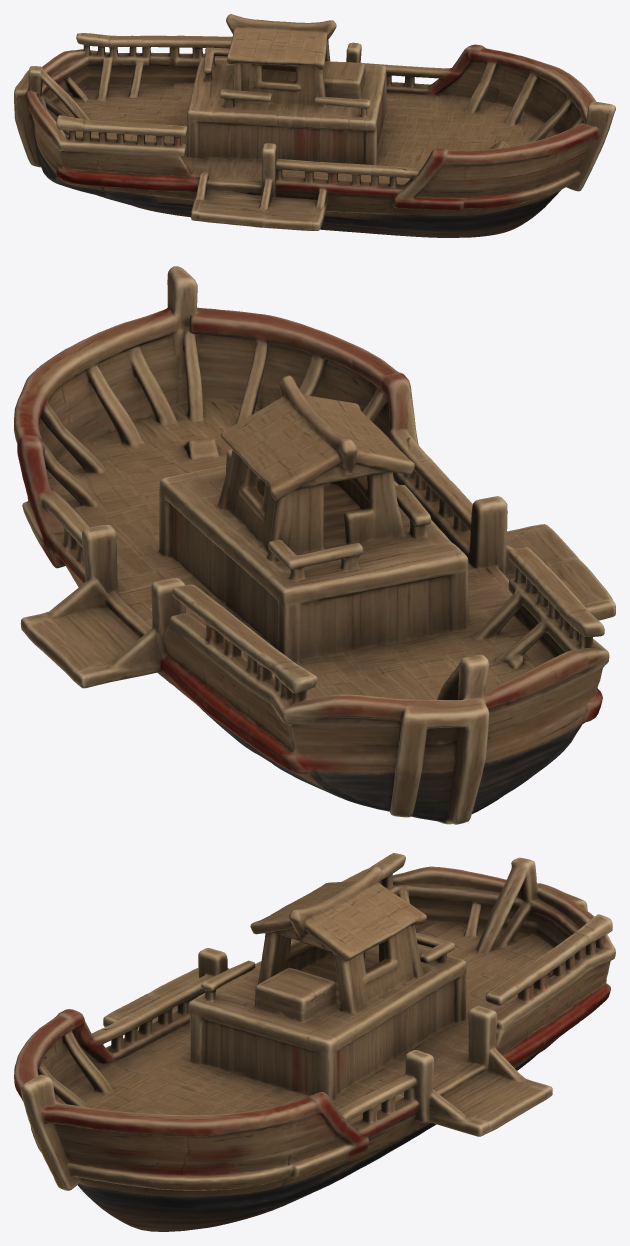
The model's file is Ship.glb.
3 renders of one model, top to bottom at view 1: azimuth 30°, elevation 25°; view 2: azimuth 150°, elevation 25°; view 3: azimuth 270°, elevation 25°, orthographic. The views are drawn at different scales.
Visible parts, largest first — view 1: world; view 2: world; view 3: world.
Part boxes in pixels (x1,y1,x2,y2): world: [14, 14, 615, 237]; world: [14, 266, 615, 824]; world: [14, 853, 615, 1231].
Size of the model in its own units: 1 by 0.4346 by 0.9374.
1 material, 1 textured.
